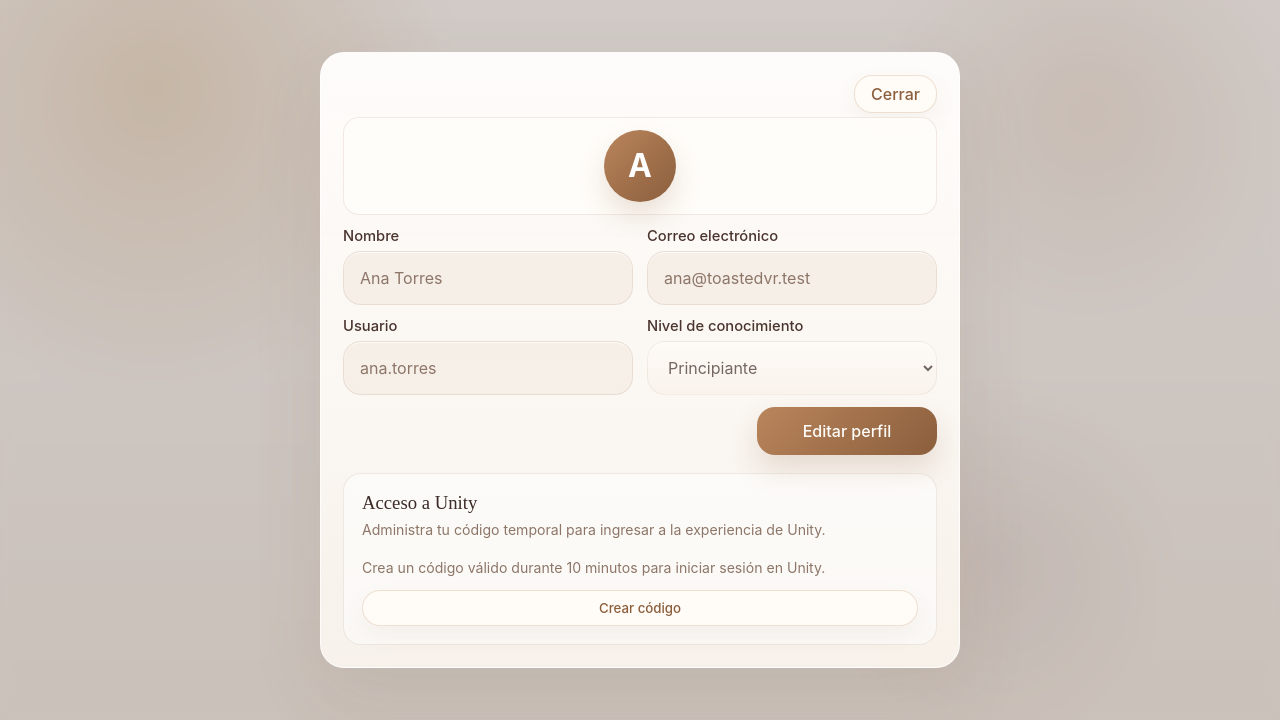
Scenario: shows a taken username under the username field and clears it on change
The image size is (1280, 720).
Expected: the button "Crear código" is shown, x1=362 y1=590 x2=918 y2=626
Click the button "Editar perfil" at coordinates (847, 431), box x1=757 y1=407 x2=937 y2=455
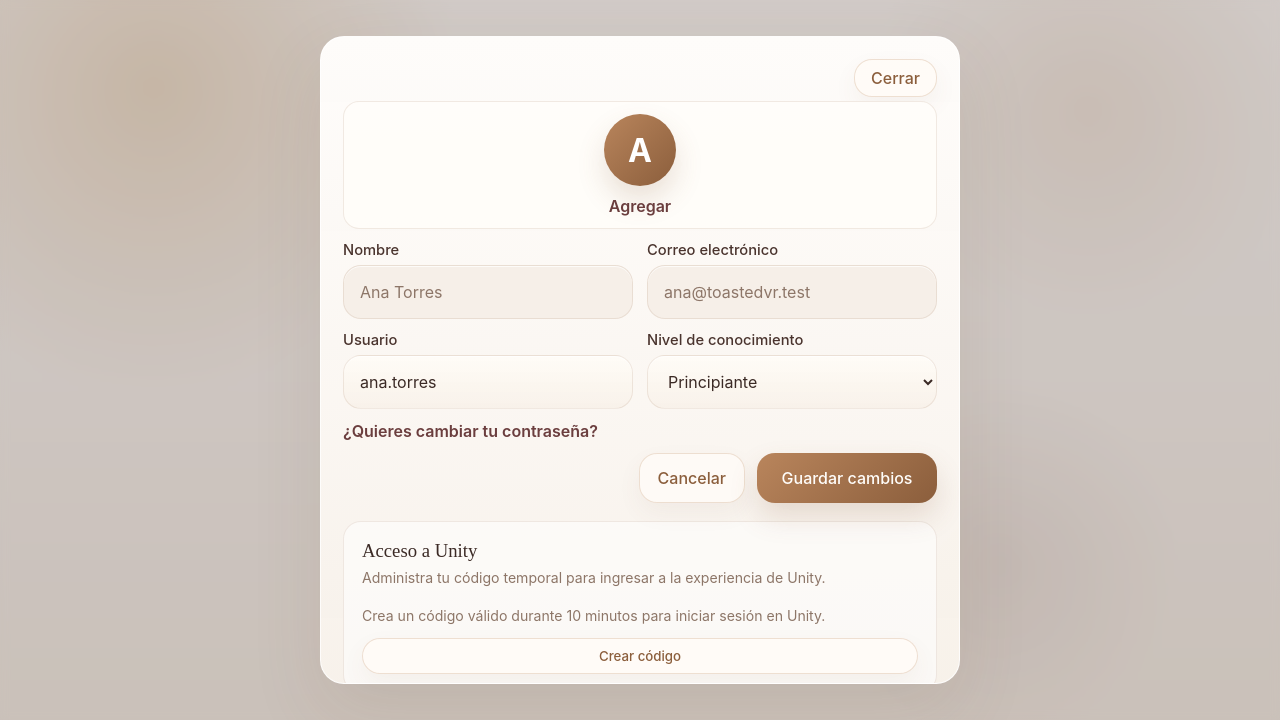
Replace the text in the field showing "ana.torres" with "takenName" at coordinates (488, 382), box x1=343 y1=355 x2=633 y2=409
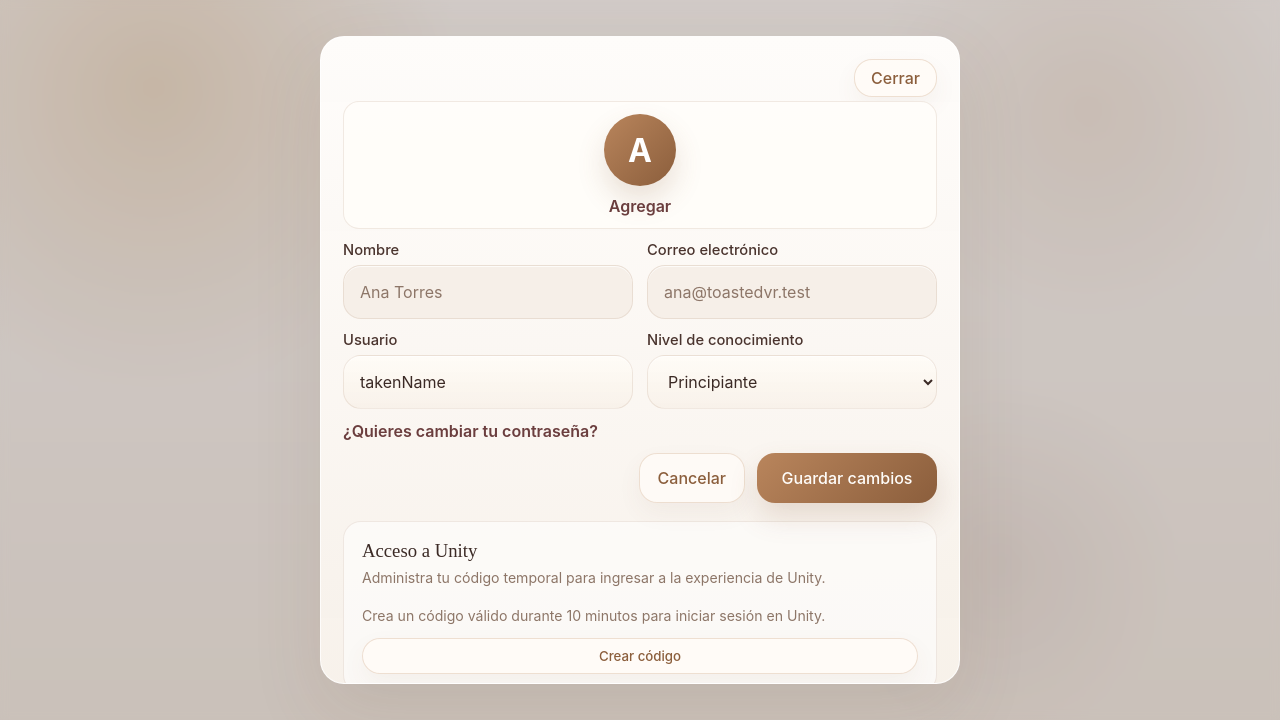
Click the button "Guardar cambios" at coordinates (847, 478), box x1=757 y1=453 x2=937 y2=503
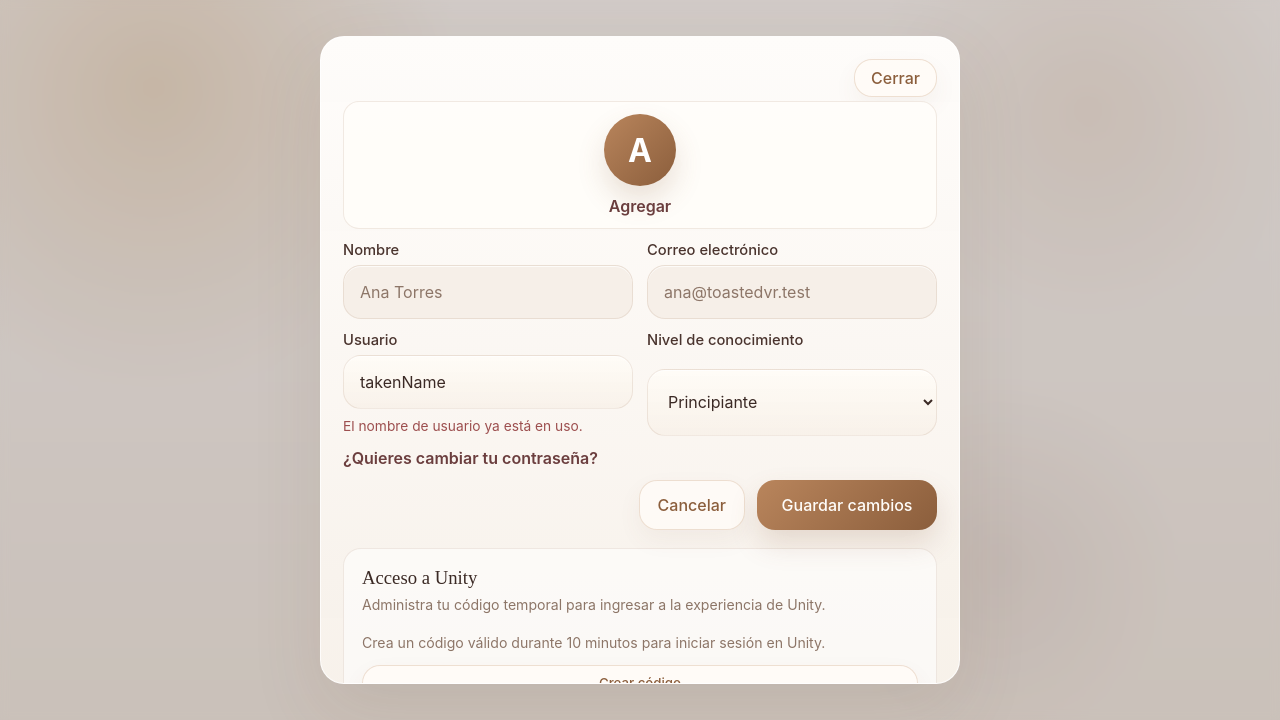
Result: the message reads "El nombre de usuario ya está en uso." at x1=343 y1=418 x2=583 y2=434
Replace the text in the field showing "ana.torres" with "otherName" at coordinates (488, 382), box x1=343 y1=355 x2=633 y2=409
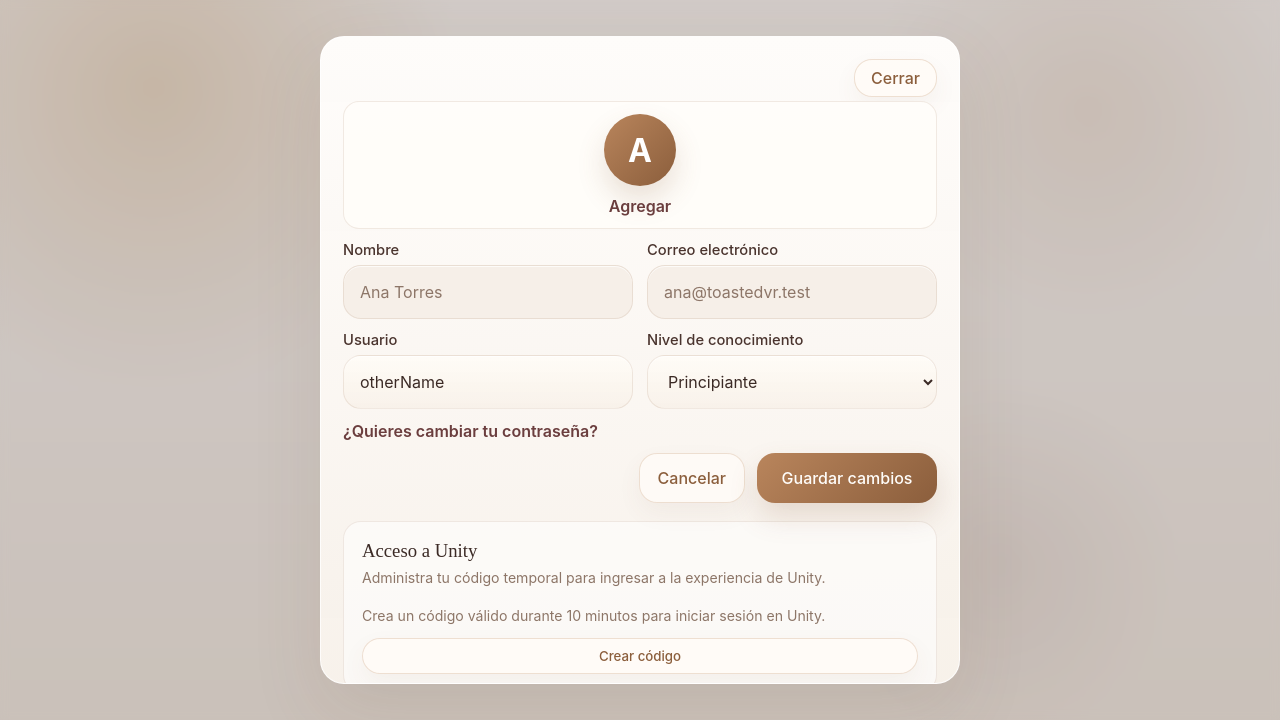
Result: the message "El nombre de usuario ya está en uso." is gone
